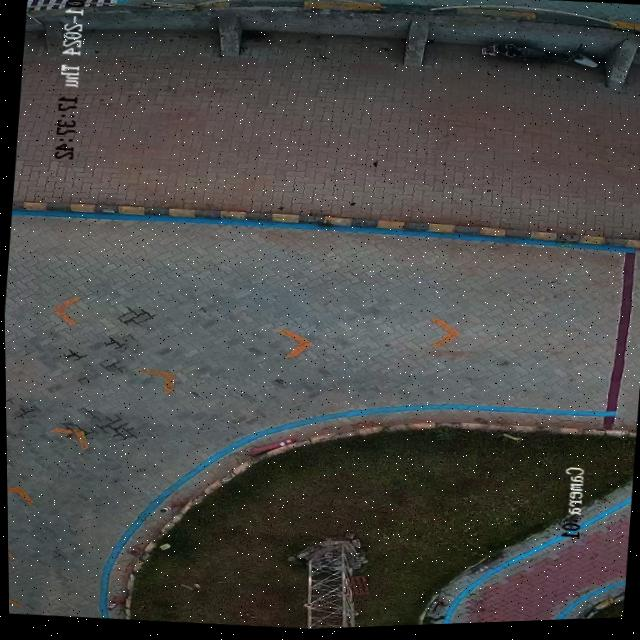No Car: (4, 0, 640, 631)
